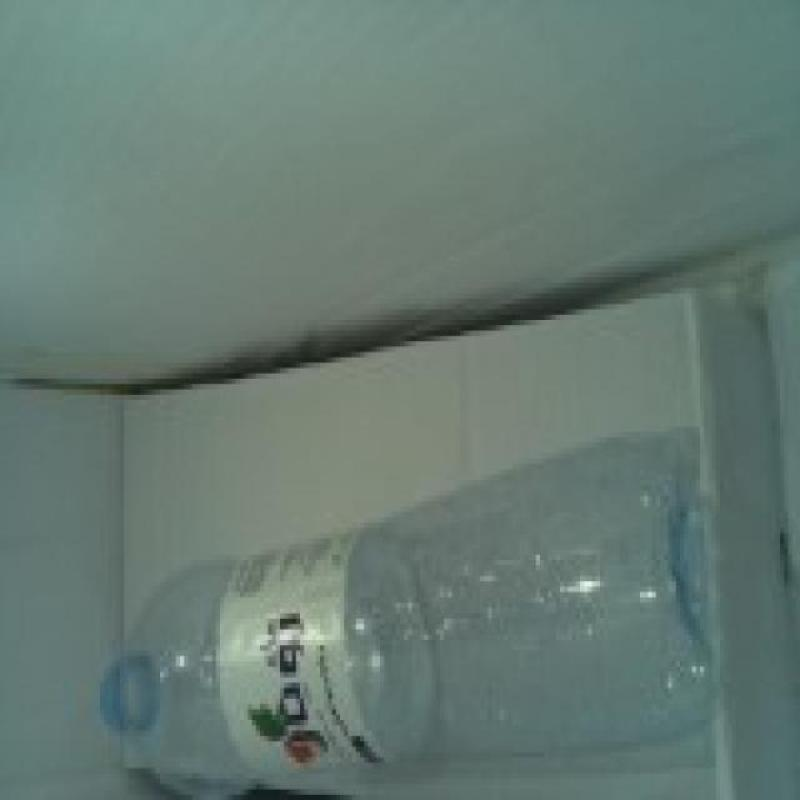botella: (100, 448, 715, 782)
